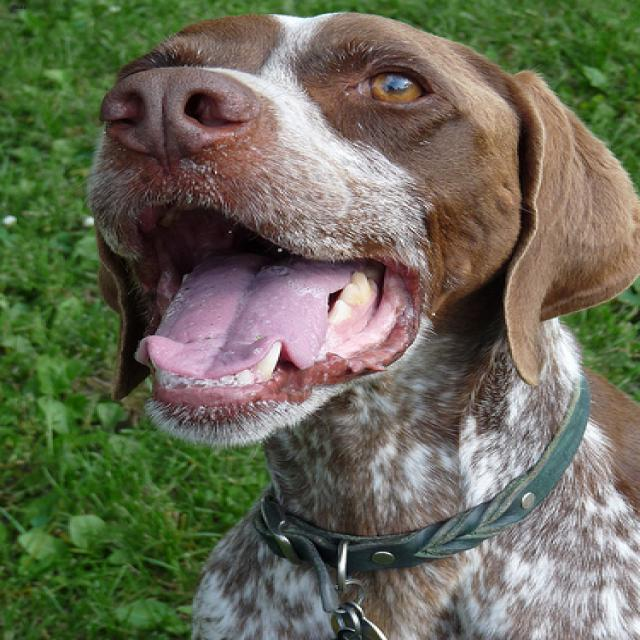dog-german_shorthaired: (77, 3, 637, 637)
